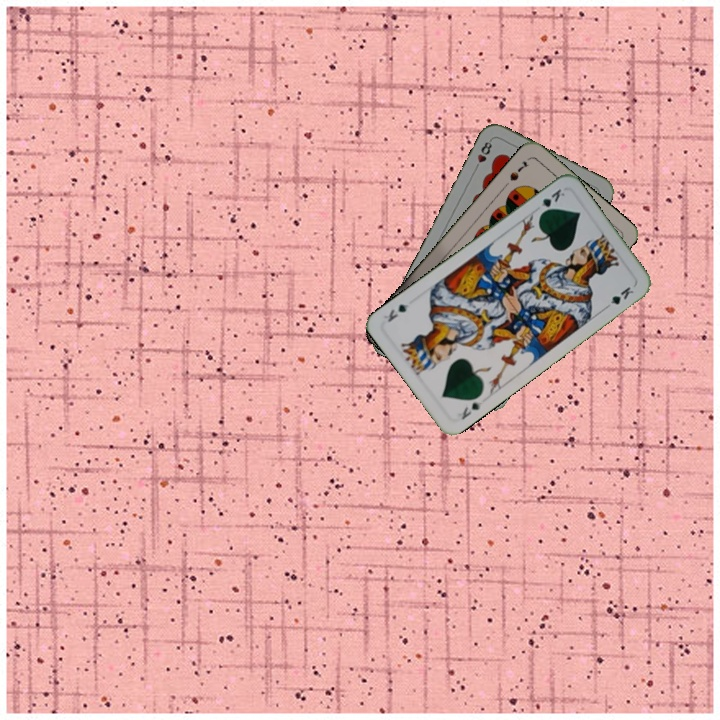GK: (531, 185, 568, 218), (457, 396, 485, 422)
H8: (470, 135, 495, 173)
S7: (505, 157, 531, 184)
